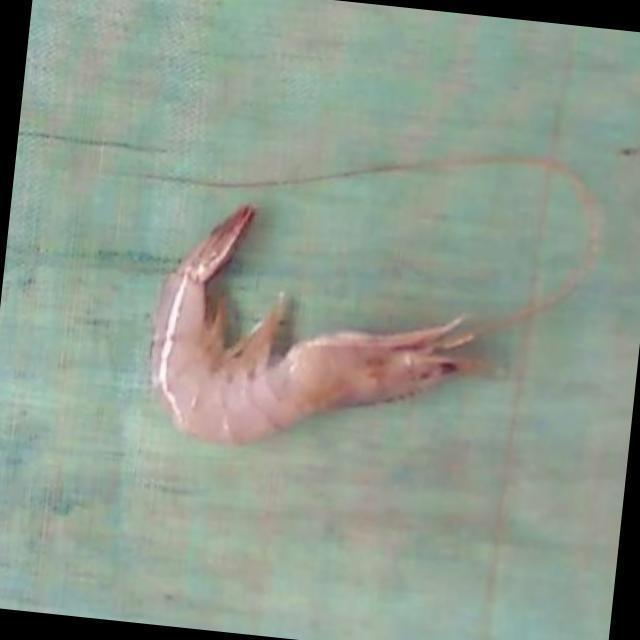shrimp: (152, 206, 479, 444)
